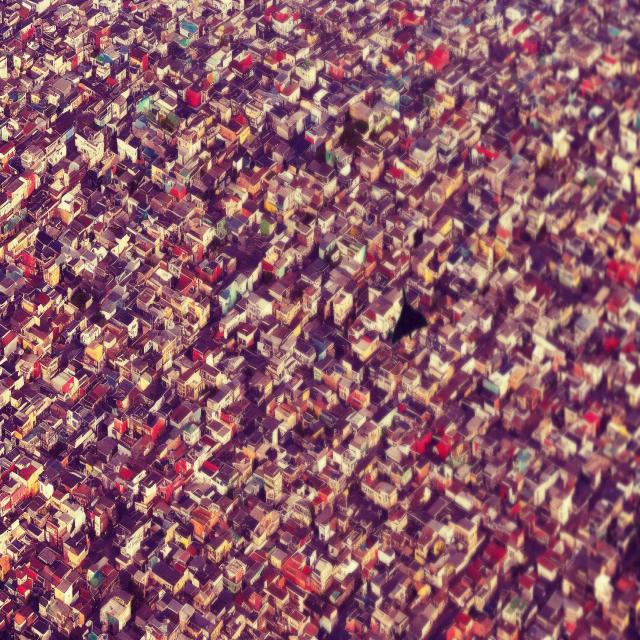airplane: (391, 284, 428, 342)
